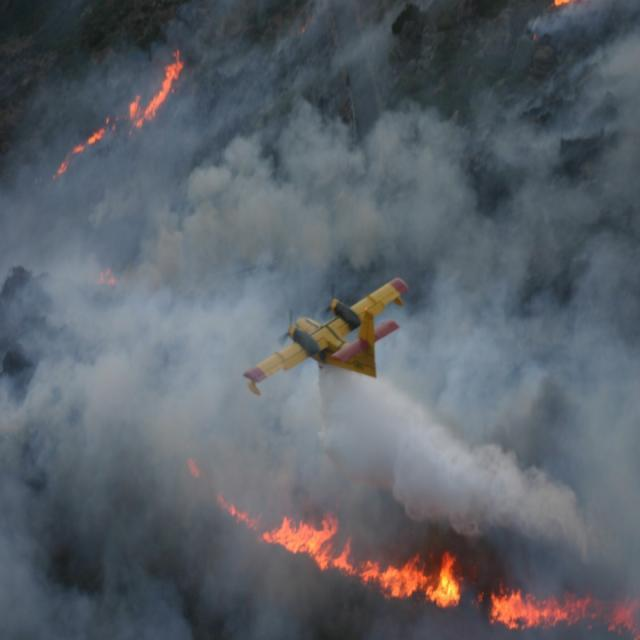Fire: (222, 491, 364, 571), (468, 592, 634, 630), (346, 544, 442, 598), (146, 64, 182, 124), (70, 103, 112, 152), (429, 554, 462, 608), (538, 0, 584, 25)
Smoke: (452, 90, 640, 518), (11, 177, 183, 640), (212, 118, 307, 340), (314, 134, 450, 256), (360, 403, 494, 490)
